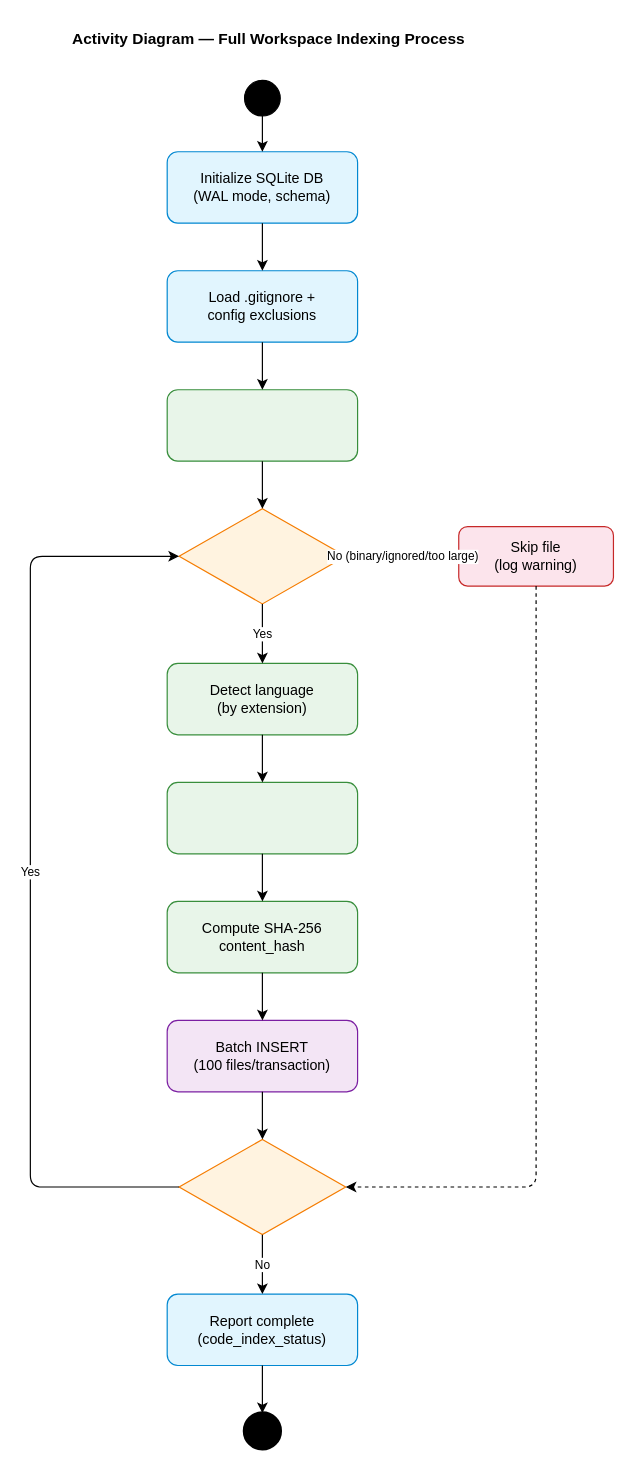
The diagram is 634 pixels wide and 1471 high, and some of its shapes have lost their labels. Each missing label, with the centre of its shape:
"Extract signatures (regex patterns)" goes at point 262,817.
"File eligible?" goes at point 262,556.
"More files?" goes at point 262,1186.
"Traverse workspace recursively" goes at point 262,425.
